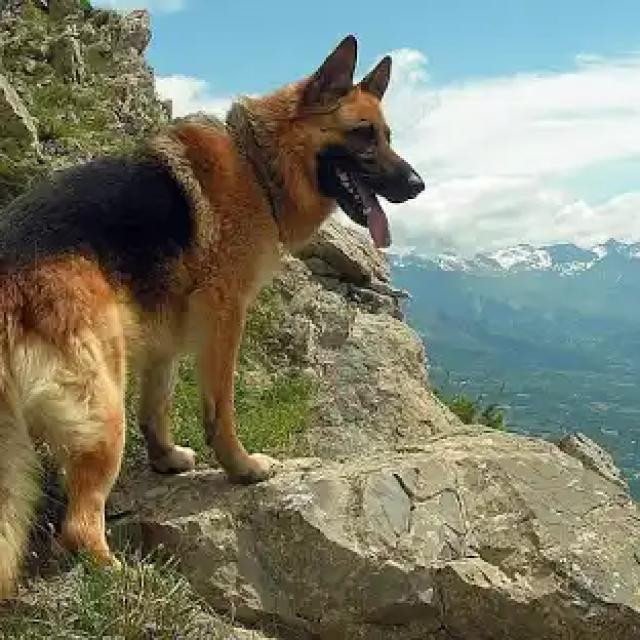dog: (0, 33, 425, 603)
